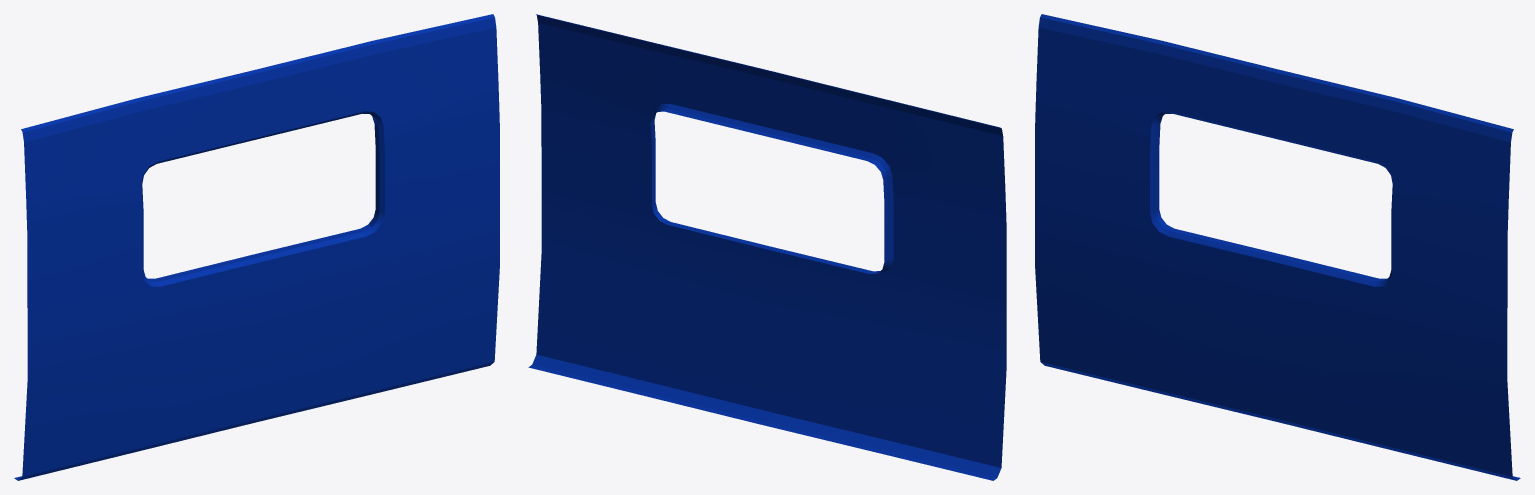
The model's file is asset_murext_2x4_fenetre 1.fbx.
The picture shows the model from 3 angles, left to right: view 1: azimuth 30°, elevation 25°; view 2: azimuth 150°, elevation 25°; view 3: azimuth 330°, elevation 25°; orthographic projection.
Visible parts, largest first — view 1: Module_murext4x4_low8; view 2: Module_murext4x4_low8; view 3: Module_murext4x4_low8.
Part boxes in pixels (x1,y1,x2,y2): Module_murext4x4_low8: (14,14,499,480); Module_murext4x4_low8: (528,14,1006,480); Module_murext4x4_low8: (1035,14,1520,480).
Size of the model in its own units: 400 by 288 by 20.45.
